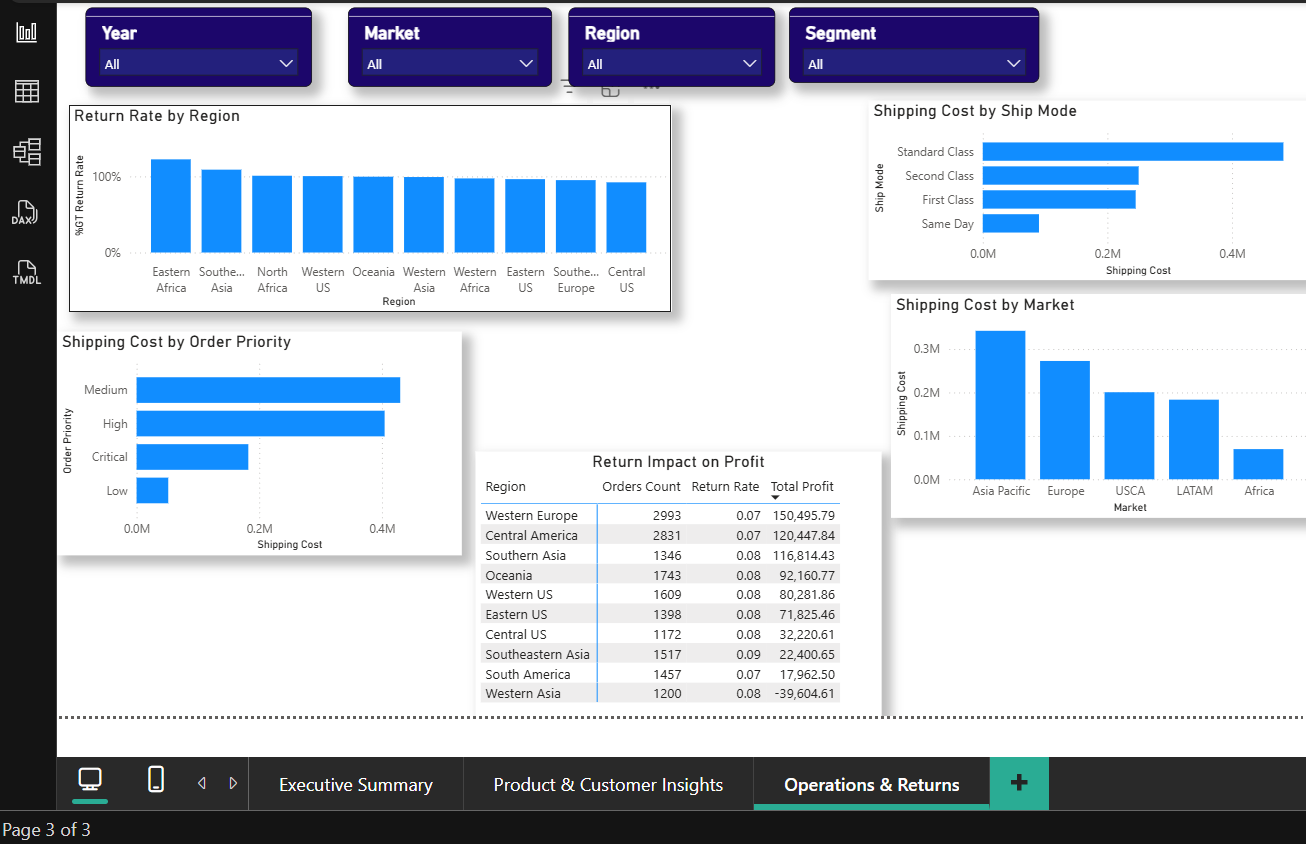

What the dashboard file says about the page in this screenshot:
{"tool":"powerbi","page":{"name":"Operations &  Returns","canvas":[1280,720],"ordinal":2},"visuals":[{"type":"clusteredColumnChart","title":"Return Rate by Region","fields":{"Category":["Dim_Geography.Region"],"Y":["_Measures.Return Rate"]},"box":[11.4,102.9,608.6,208.6],"z":0},{"type":"clusteredBarChart","fields":{"Category":["Dim_Shipping.Ship Mode"],"Y":["_Measures.Shipping Cost"]},"box":[818.6,98.6,448.6,181.4],"z":1000},{"type":"clusteredBarChart","fields":{"Category":["FACT_Orders.Order Priority"],"Y":["_Measures.Shipping Cost"]},"box":[0,331.4,408.6,225.7],"z":2000},{"type":"pivotTable","title":"Return Impact on Profit","fields":{"Rows":["Dim_Geography.Region"],"Values":["_Measures.Orders Count","_Measures.Return Rate","_Measures.Total Profit"]},"box":[422,452,410,268],"z":3000},{"type":"clusteredColumnChart","fields":{"Category":["Dim_Geography.Market"],"Y":["_Measures.Shipping Cost"]},"box":[841.4,294.3,428.6,225.7],"z":4000},{"type":"slicer","fields":{"Values":["Dim_Date.Order Date.Variation.Date Hierarchy.Year"]},"box":[0,0,228.8,80],"z":5000},{"type":"slicer","fields":{"Values":["Dim_Geography.Market"]},"box":[241.2,0,205.6,80],"z":6000},{"type":"slicer","fields":{"Values":["Dim_Geography.Region"]},"box":[458.2,0,210,80],"z":7000},{"type":"slicer","fields":{"Values":["Dim_Customer.Segment"]},"box":[691.9,4.4,252.5,75.6],"z":8000}]}

Visuals, with their boxes on the page's 1280x720 design canvas (x1, y1, x2, y2). These are canvas units, not pixel positions in the 1306x844 screenshot, which may show the page scaled, cropped or inside an application window:
"Return Rate by Region" clusteredColumnChart: box=[11, 103, 620, 312]
clusteredBarChart - Dim_Shipping.Ship Mode x _Measures.Shipping Cost: box=[819, 99, 1267, 280]
clusteredBarChart - FACT_Orders.Order Priority x _Measures.Shipping Cost: box=[0, 331, 409, 557]
"Return Impact on Profit" pivotTable: box=[422, 452, 832, 720]
clusteredColumnChart - Dim_Geography.Market x _Measures.Shipping Cost: box=[841, 294, 1270, 520]
slicer - Dim_Date.Order Date.Variation.Date Hierarchy.Year: box=[0, 0, 229, 80]
slicer - Dim_Geography.Market: box=[241, 0, 447, 80]
slicer - Dim_Geography.Region: box=[458, 0, 668, 80]
slicer - Dim_Customer.Segment: box=[692, 4, 944, 80]
